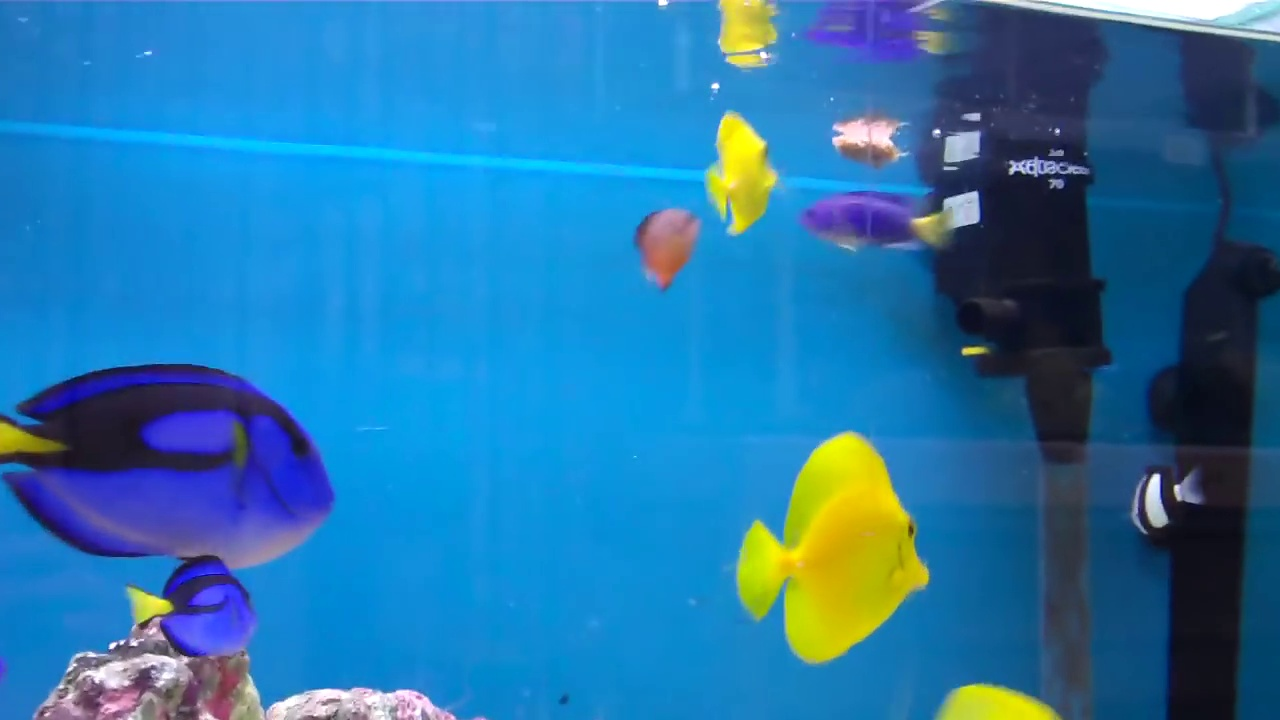blue tang surgeonfish: (0, 362, 347, 558), (128, 547, 274, 669)
saddle butterfly fish: (732, 414, 930, 672), (675, 81, 801, 258)
